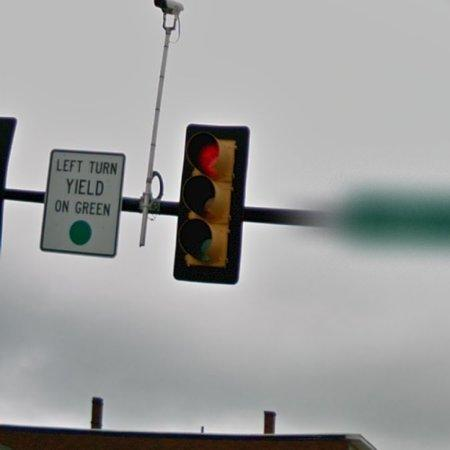traffic lights: (174, 124, 250, 284)
